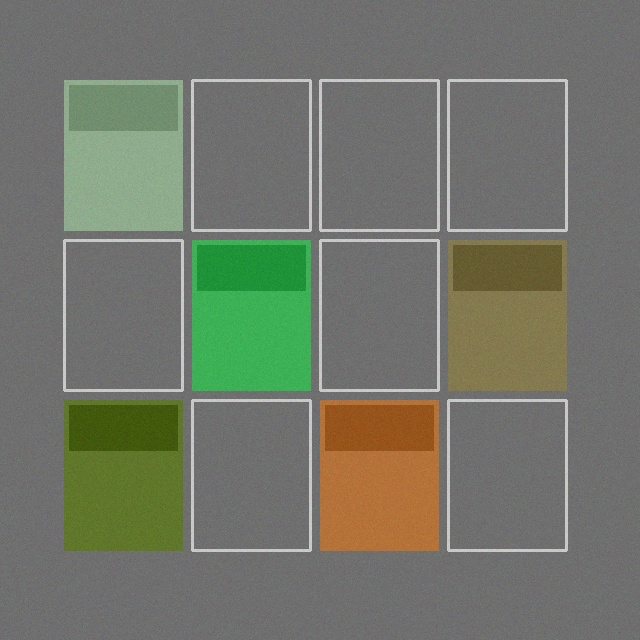space-empty: (192, 80, 310, 230), (320, 80, 438, 230), (448, 80, 566, 230), (64, 240, 182, 390), (320, 240, 438, 390), (192, 400, 310, 550), (448, 400, 566, 550)
space-occupied: (64, 80, 182, 230), (192, 240, 310, 390), (448, 240, 566, 390), (64, 400, 182, 550), (320, 400, 438, 550)
